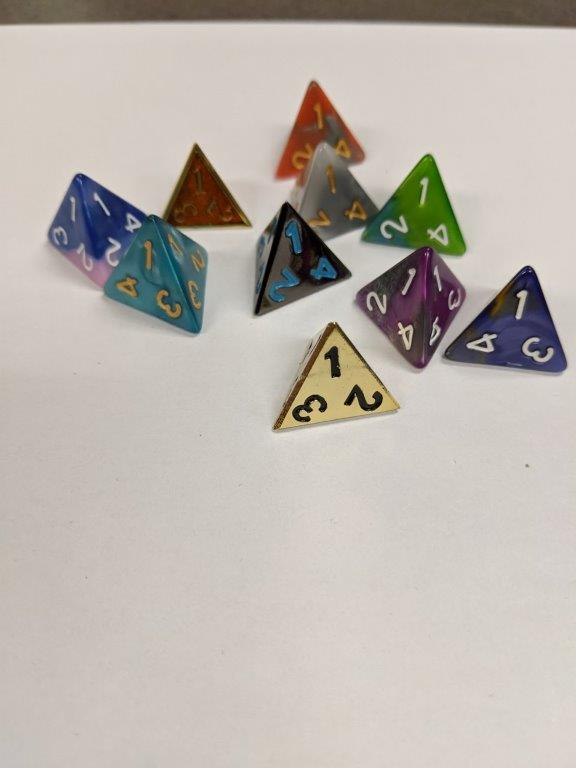d4-1: (348, 243, 470, 375), (443, 260, 572, 382), (270, 319, 402, 436), (103, 211, 211, 342), (42, 172, 153, 286), (360, 154, 470, 261), (251, 204, 348, 322), (282, 144, 385, 251), (271, 77, 369, 171), (158, 143, 255, 229)
